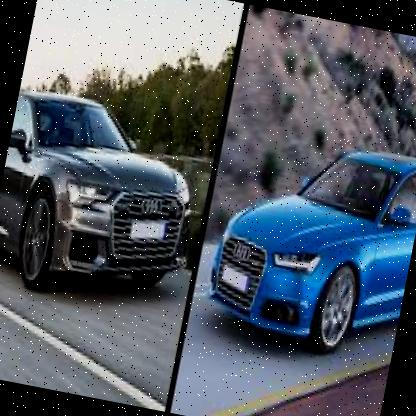car: (190, 115, 416, 365), (0, 76, 217, 319)
